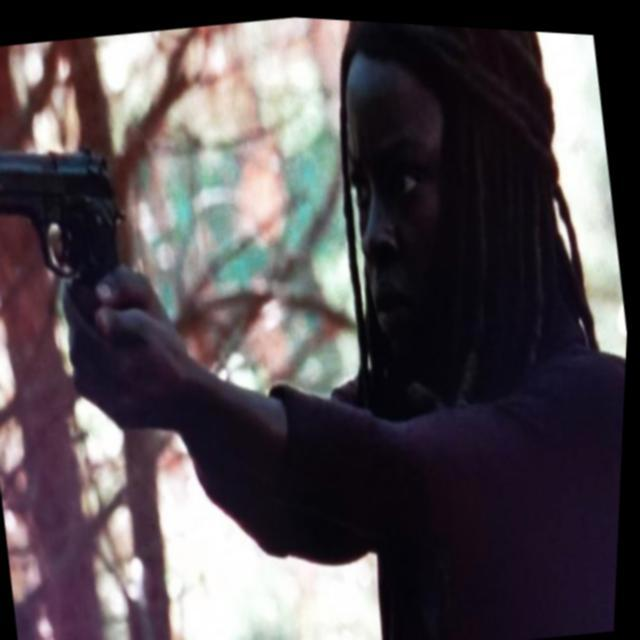weapon: (0, 115, 147, 344)
